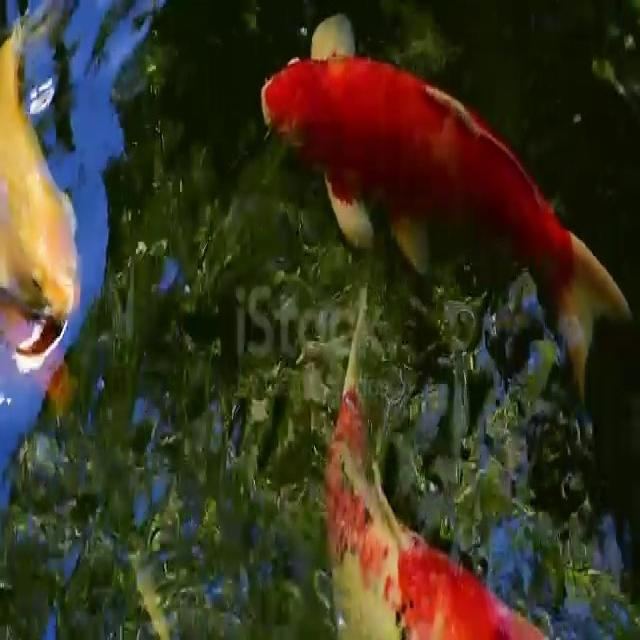fish: (258, 15, 630, 377), (303, 392, 570, 634), (0, 8, 115, 322)
